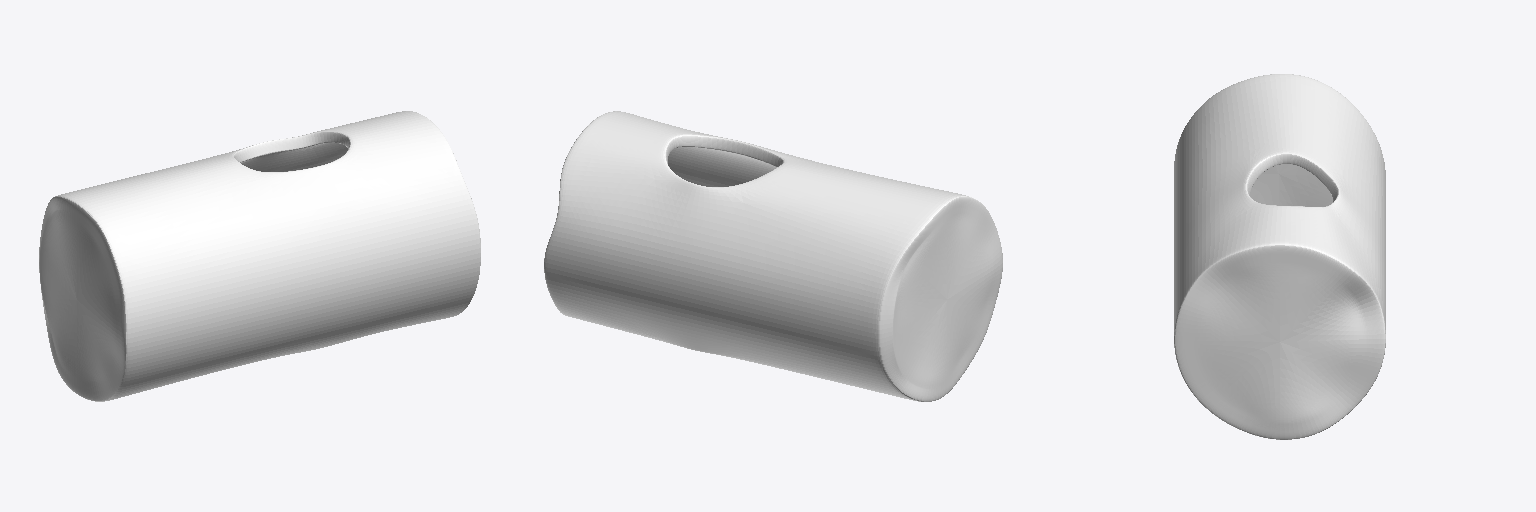
The model's file is 13021_Aquarium_Log_v1_L3.obj.
3 renders of one model, left to right at view 1: azimuth 30°, elevation 25°; view 2: azimuth 150°, elevation 25°; view 3: azimuth 270°, elevation 25°, orthographic.
Parts seen in each view (by area): view 1: Aquarium_Log; view 2: Aquarium_Log; view 3: Aquarium_Log.
Part boxes in pixels (x1,y1,x2,y2): Aquarium_Log: (39,111,480,401); Aquarium_Log: (544,111,1002,401); Aquarium_Log: (1174,74,1385,439).
Bounding box in the file's own units: 21.91 × 10.99 × 10.98.